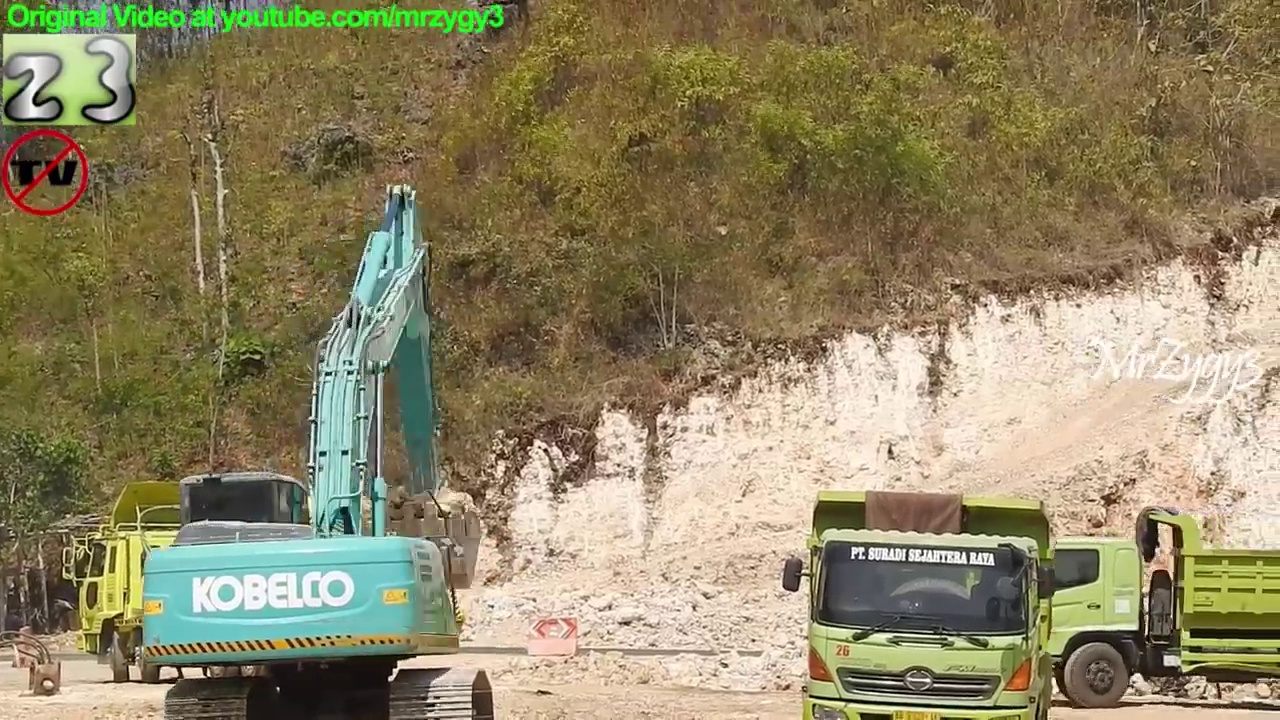excavator: (131, 178, 514, 720)
truck: (58, 476, 458, 689), (779, 479, 1057, 720), (999, 500, 1280, 715)
